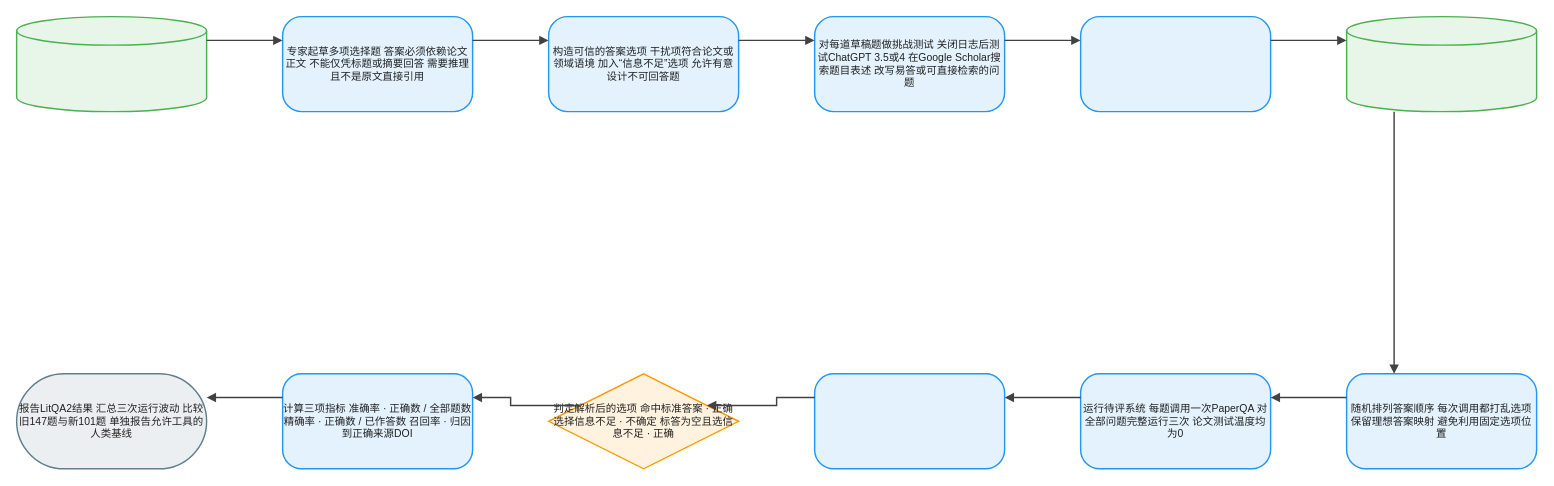
Image size: 1554x486. Some labels were removed from this diagram. Here are the shapes that lost their labels. From the top down, the centre of each, then its label:
At point 111,63: "确定近期科学论文 发布时间在过去36个月内 优先选择冷门的中间发现 记录预期来源DOI".
At point 1175,63: "校准并持续审核出题者 细审每位新作者最初约10题 返工或淘汰薄弱问题 合入题库前继续由作者审核".
At point 1441,63: "汇总LitQA2 原始LitQA · 47题 首批增加100题 → 147题 再增加101题 → 共248题".
At point 909,421: "抽取单个字母答案 使用GPT-4-0613 应用论文公布的抽取提示词 解析返回的选项字母".
